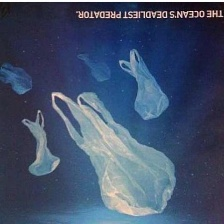plastic_bag: (50, 88, 178, 218), (118, 46, 172, 121), (16, 107, 63, 182), (75, 49, 114, 84), (0, 61, 35, 98)
